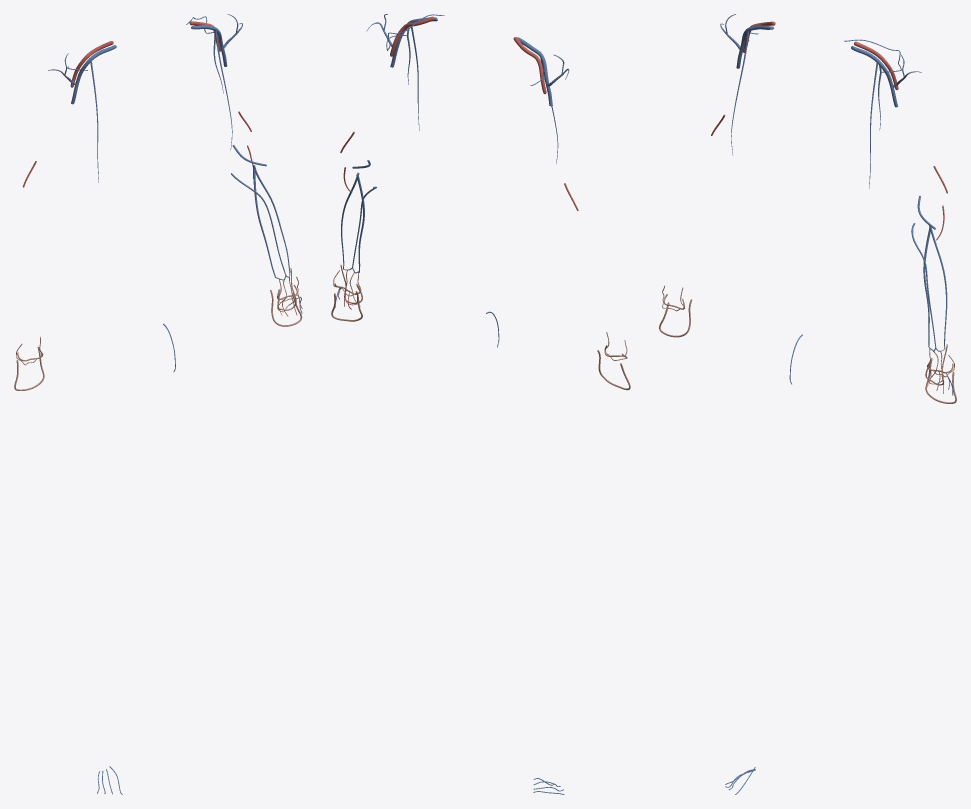
File: other-32.glb
The picture shows the model from 3 angles, left to right: view 1: azimuth 30°, elevation 25°; view 2: azimuth 150°, elevation 25°; view 3: azimuth 330°, elevation 25°; orthographic projection. The views are drawn at different scales.
Bounding box in the file's own units: 0.5798 × 1.42 × 0.1358.
